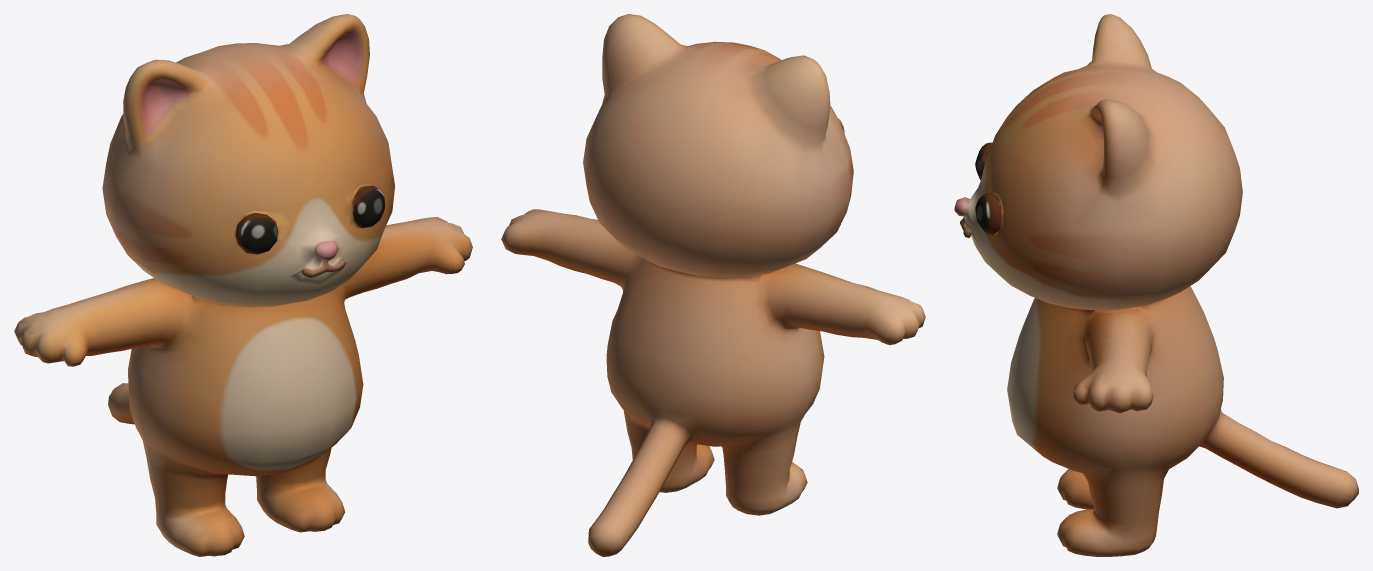
The model's file is cat.glb.
3 renders of one model, left to right at view 1: azimuth 30°, elevation 25°; view 2: azimuth 150°, elevation 25°; view 3: azimuth 270°, elevation 25°, orthographic. The views are drawn at different scales.
Visible parts, largest first — view 1: tripo_node_38066fde-1e54-40c7-ad1a-008b47350782; view 2: tripo_node_38066fde-1e54-40c7-ad1a-008b47350782; view 3: tripo_node_38066fde-1e54-40c7-ad1a-008b47350782.
Boxes of the visible parts, box(x1,y1,x2,y2) form: tripo_node_38066fde-1e54-40c7-ad1a-008b47350782: box(14, 14, 472, 556); tripo_node_38066fde-1e54-40c7-ad1a-008b47350782: box(501, 14, 925, 556); tripo_node_38066fde-1e54-40c7-ad1a-008b47350782: box(954, 14, 1358, 556).
Size of the model in its own units: 0.928 by 0.9778 by 0.7749.
Materials: 1 (1 with a texture image).
